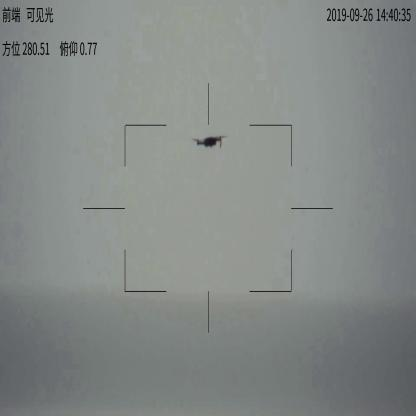uav: (192, 132, 226, 152)
